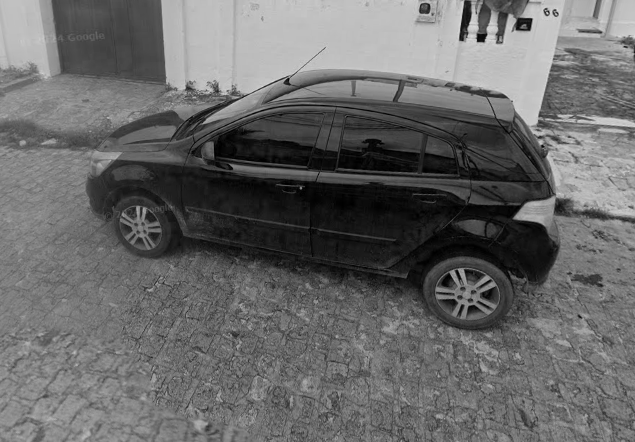car: (82, 46, 563, 334)
